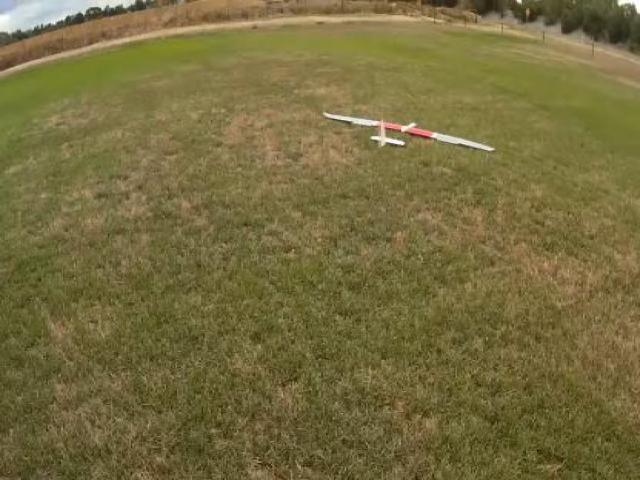uav: (315, 99, 499, 162)
